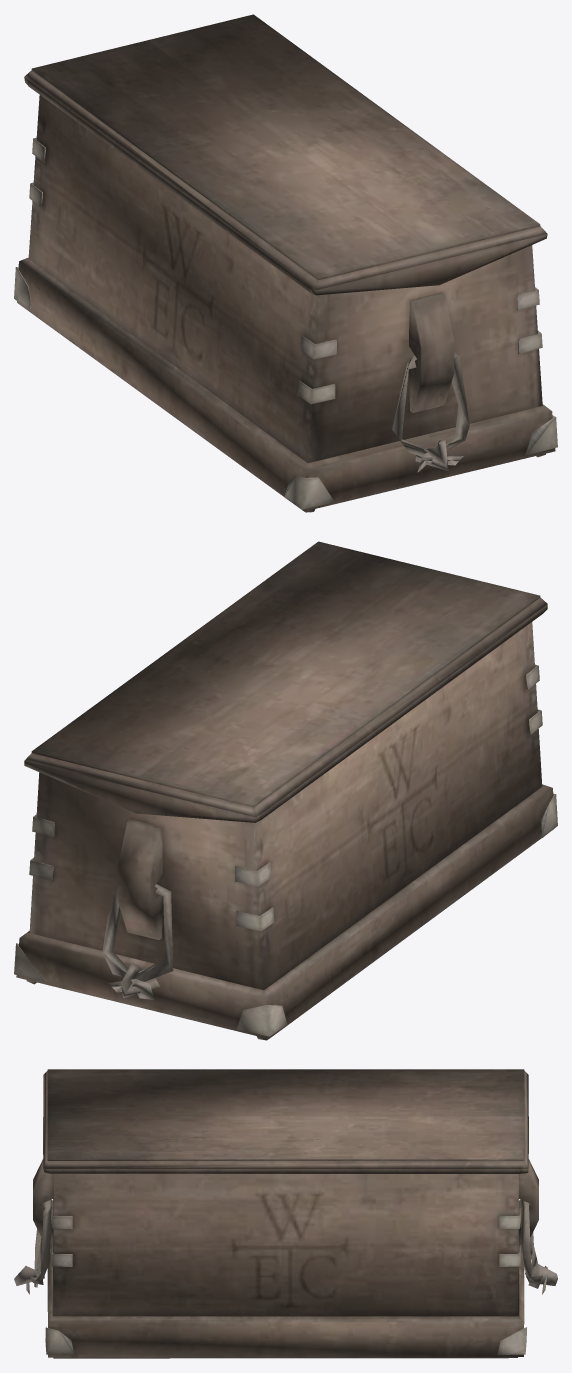
Rendered from wooden_crate_02.glb.
The picture shows the model from 3 angles, top to bottom: view 1: azimuth 30°, elevation 25°; view 2: azimuth 150°, elevation 25°; view 3: azimuth 270°, elevation 25°; orthographic projection. The views are drawn at different scales.
Parts seen in each view (by area): view 1: wooden_crate_02_crate; view 2: wooden_crate_02_crate; view 3: wooden_crate_02_crate.
Boxes of the visible parts, x1,y1,x2,y2 form: wooden_crate_02_crate: (14, 14, 557, 512); wooden_crate_02_crate: (14, 541, 557, 1040); wooden_crate_02_crate: (14, 1069, 557, 1358).
Size of the model in its own units: 0.5292 by 0.4628 by 1.16.
1 material, 1 textured.
